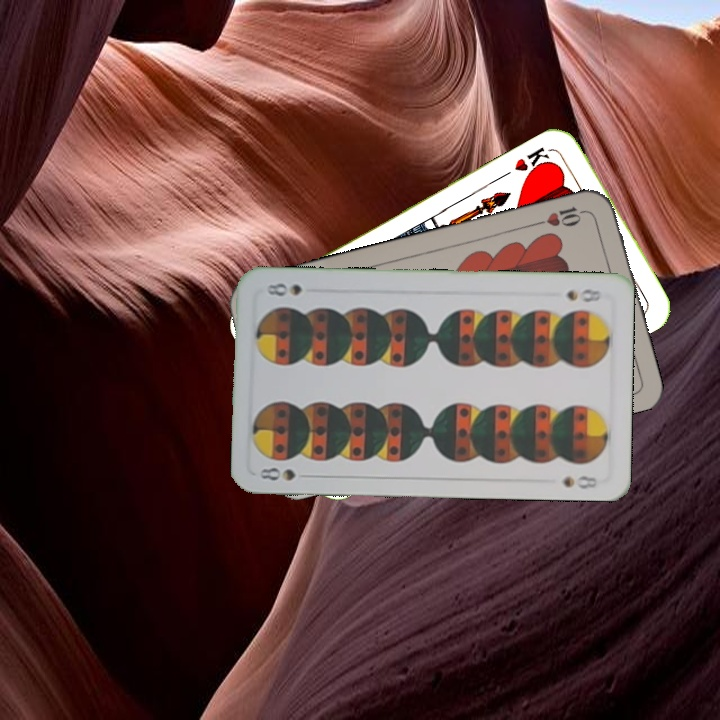H10: (532, 202, 591, 229)
HK: (510, 142, 558, 179)
S8: (255, 463, 314, 484), (562, 284, 606, 305)
